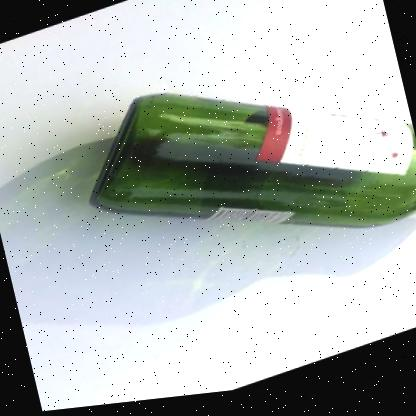Glass: (89, 96, 416, 233)
